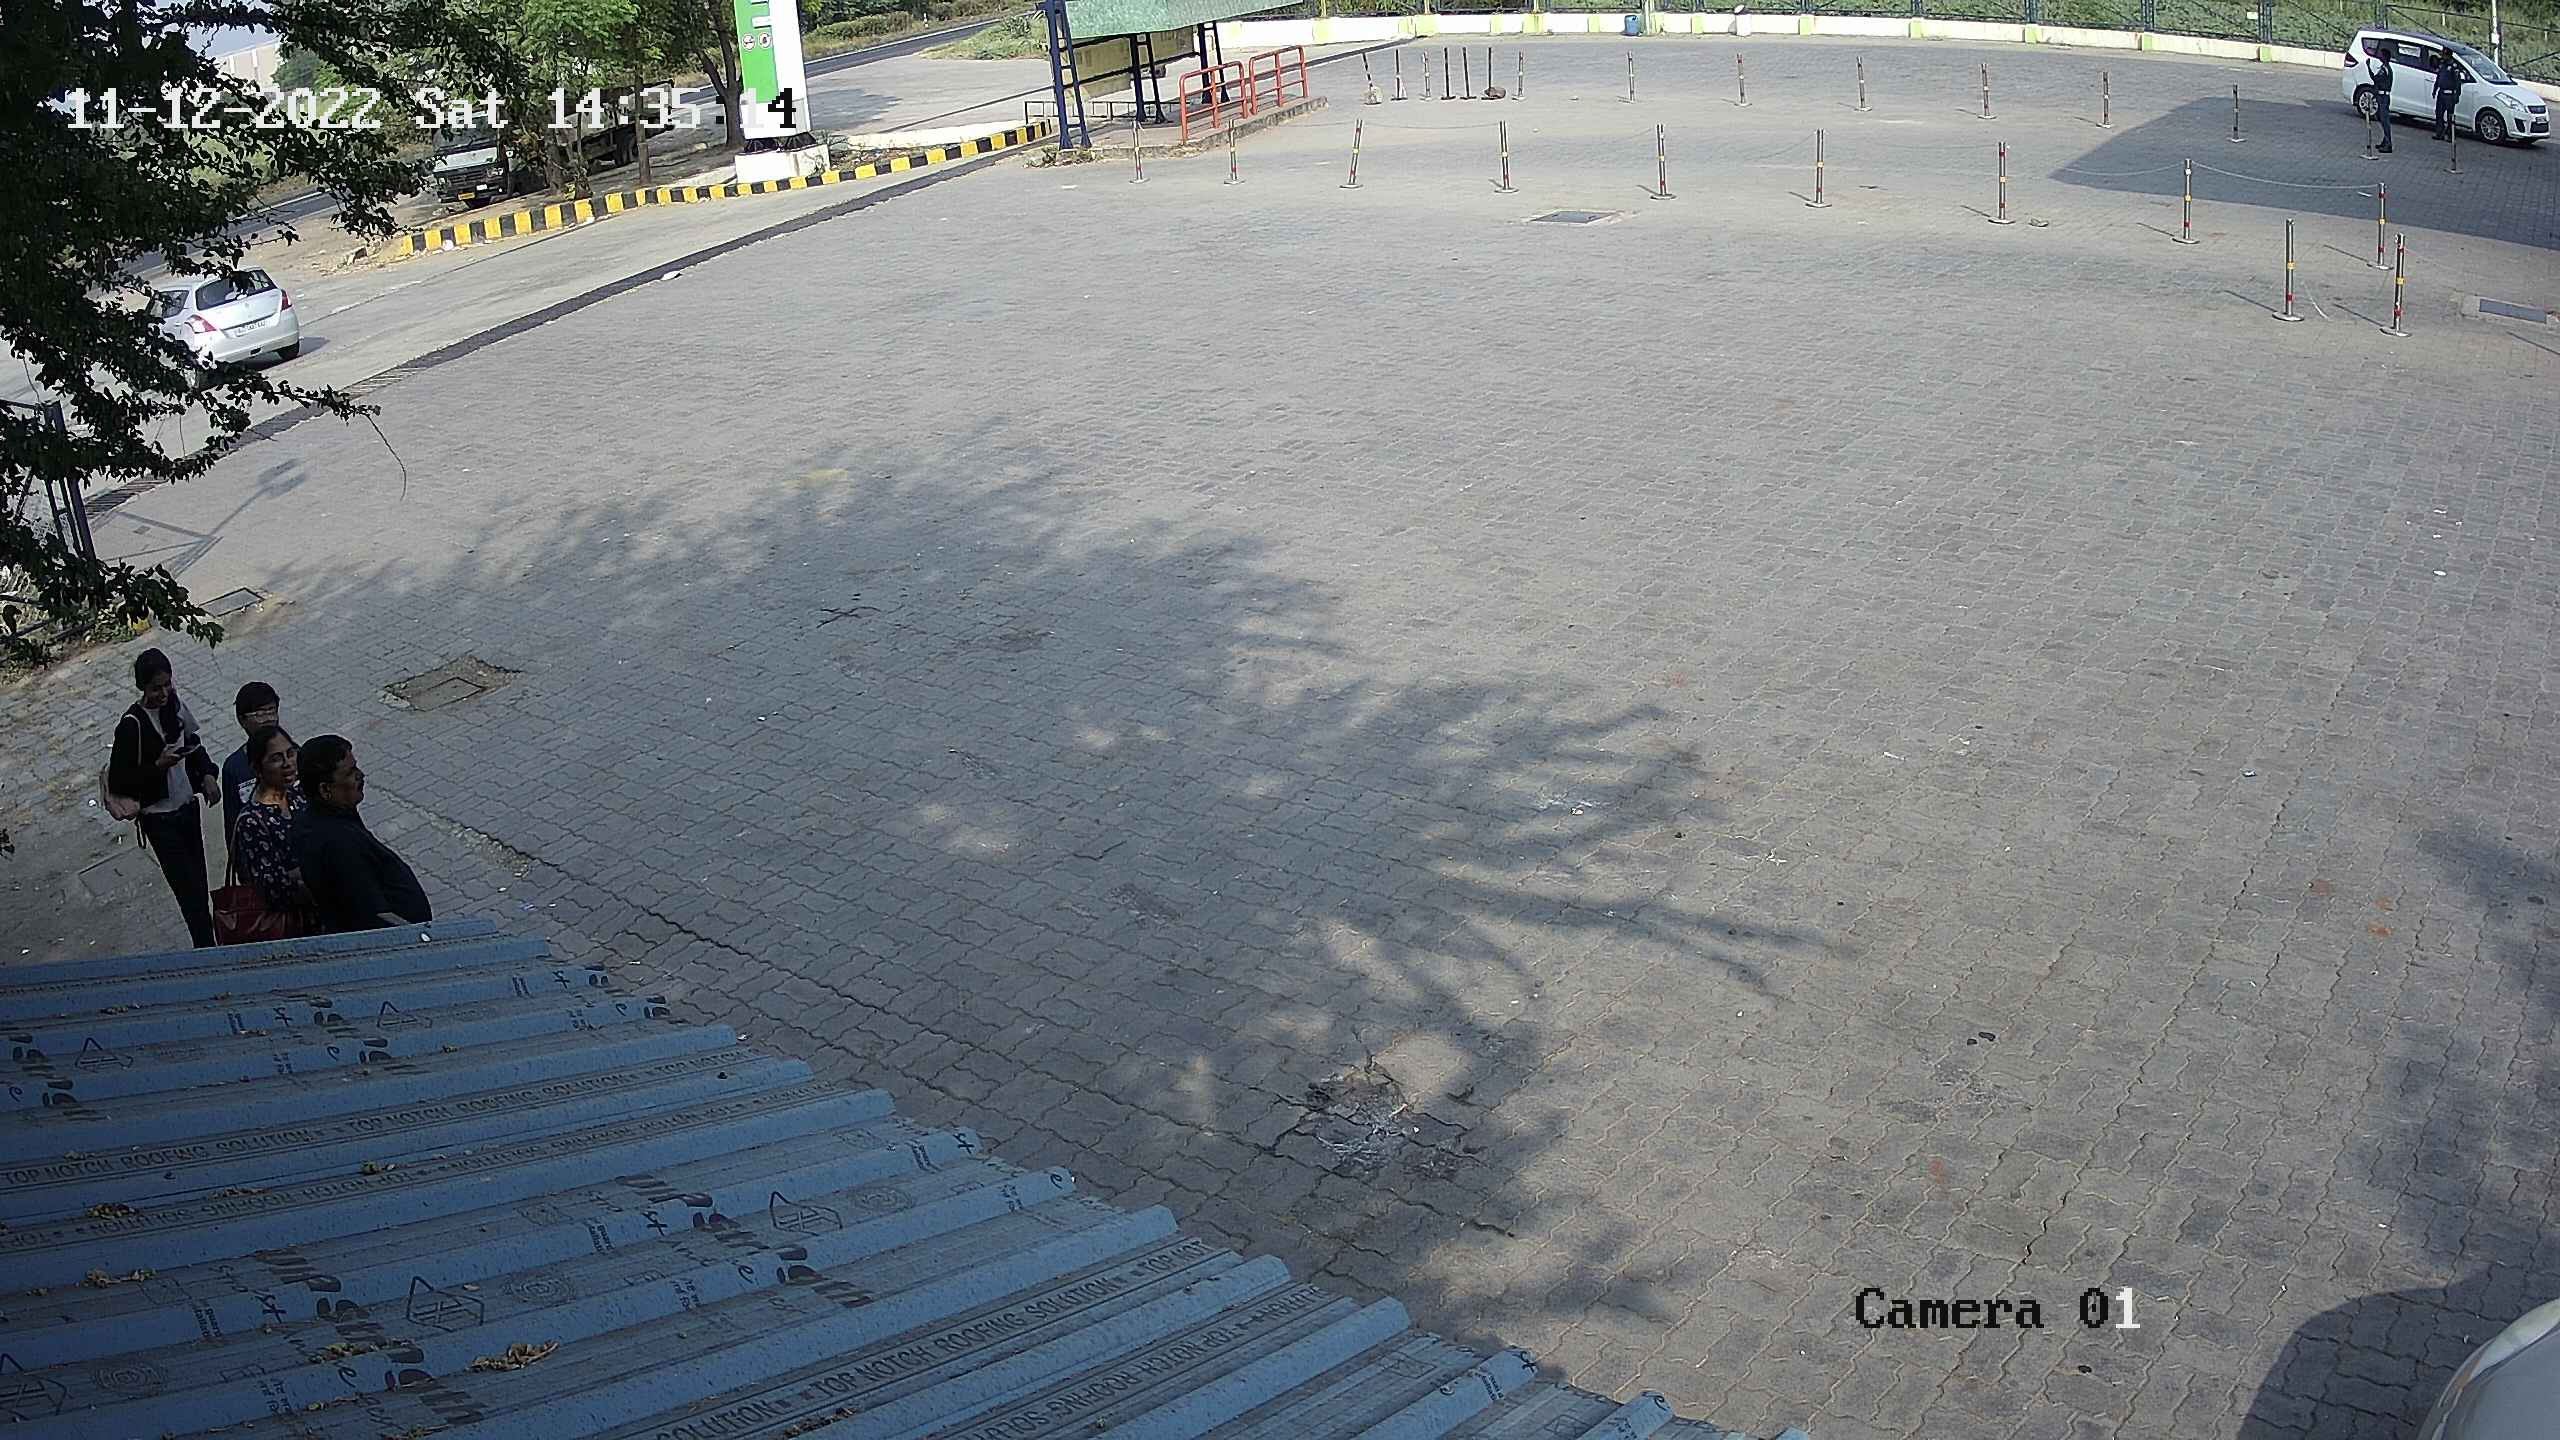Car: (88, 243, 324, 394), (2326, 14, 2553, 158), (2370, 1273, 2555, 1436)
HMV: (411, 69, 561, 223)
